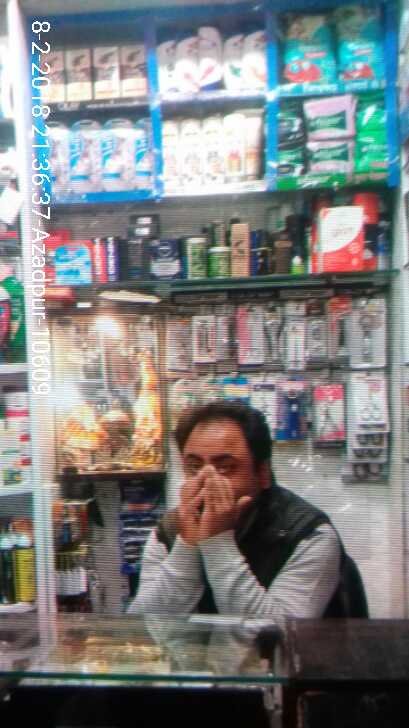venus: (71, 118, 104, 191), (103, 120, 134, 186), (45, 120, 71, 191), (134, 116, 152, 186)
